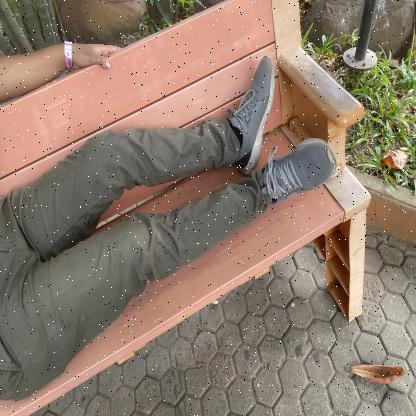hand: (6, 21, 128, 80)
leg: (97, 50, 275, 174), (192, 135, 359, 244)
